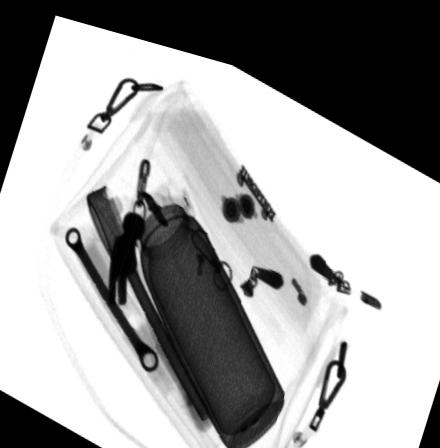Hammer: (106, 203, 212, 409)
Wrench: (65, 220, 160, 364)
